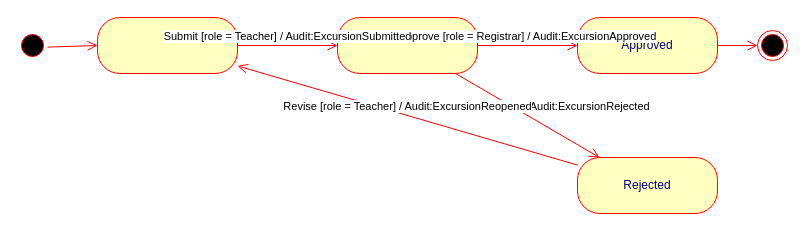
The diagram is 805 pixels wide and 231 high, and some of its shapes have lost their labels. Each missing label, with the centre of its shape:
Draft: the point at 167,45
Submitted: the point at 407,45
